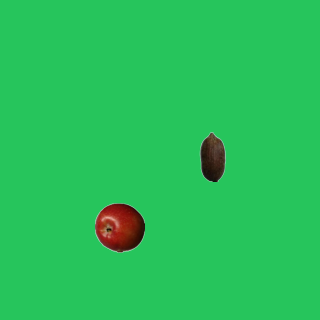Apple Braeburn: (94, 202, 144, 252)
Nut Pecan: (187, 131, 237, 181)
